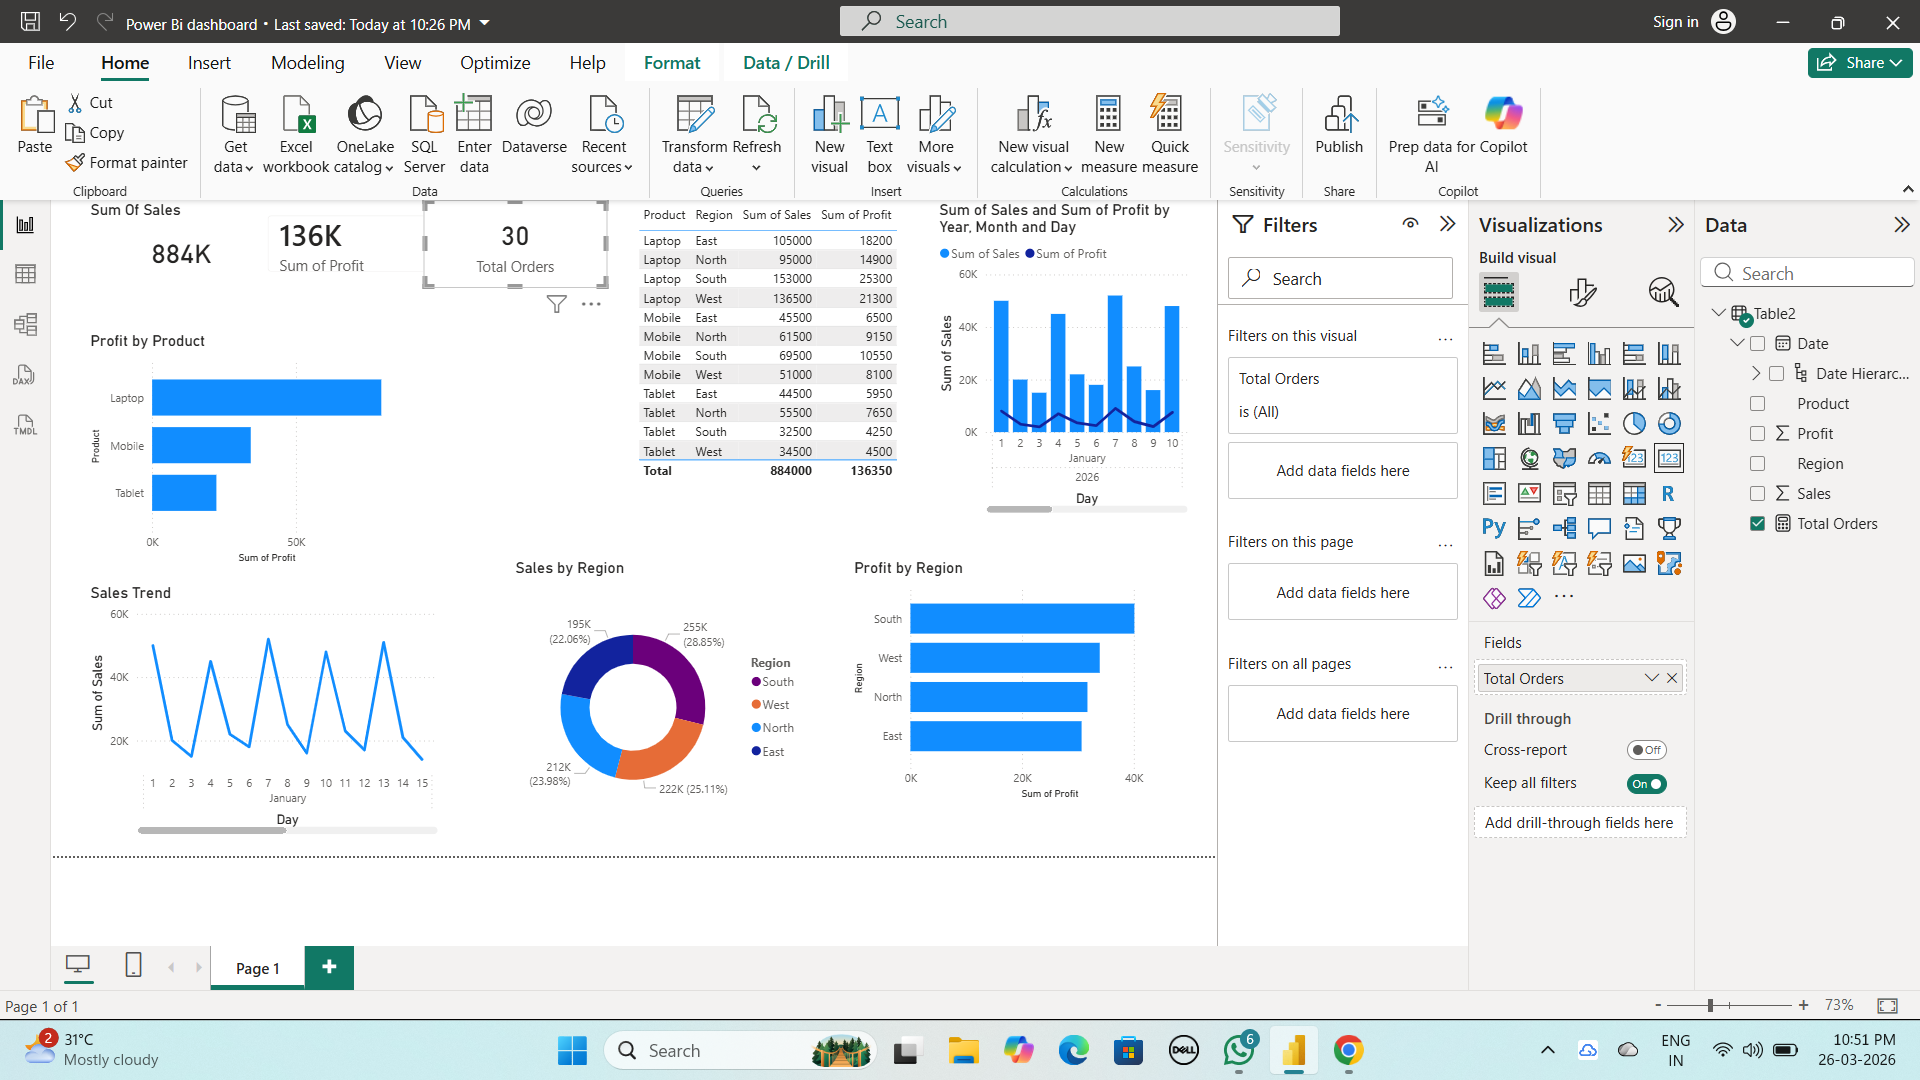

The dashboard page shown, as its layout file describes it:
{"tool":"powerbi","page":{"name":"Page 1","canvas":[1280,720],"ordinal":0},"visuals":[{"type":"card","title":"Sum Of Sales","fields":{"Values":["Sum(Table2.Sales)"]},"box":[11,0,209.9,96.1],"z":0},{"type":"lineChart","title":"Sales Trend","fields":{"Y":["Sum(Table2.Sales)"],"Category":["Table2.Date.Variation.Date Hierarchy.Month","Table2.Date.Variation.Date Hierarchy.Day"]},"box":[38.4,421.3,391.1,279.9],"z":1000},{"type":"barChart","title":"Profit by Product","fields":{"Y":["Sum(Table2.Profit)"],"Category":["Table2.Product"]},"box":[38.4,144.1,340.3,259.3],"z":2000},{"type":"donutChart","title":"Sales by Region","fields":{"Category":["Table2.Region"],"Y":["Sum(Table2.Sales)"]},"box":[505,393.8,332.1,307.4],"z":3000},{"type":"tableEx","fields":{"Values":["Table2.Product","Table2.Region","Sum(Table2.Sales)","Sum(Table2.Profit)"]},"box":[639.5,0,330.7,348.5],"z":4000},{"type":"cardVisual","title":"Sum Of Profits","fields":{"Data":["Sum(Table2.Profit)"]},"box":[220.9,0,208.6,96.1],"z":5000},{"type":"card","fields":{"Values":["Table2.total Orders"]},"box":[408.9,0,201.7,96.1],"z":6000},{"type":"lineClusteredColumnComboChart","fields":{"Y":["Sum(Table2.Sales)"],"Y2":["Sum(Table2.Profit)"],"Category":["Table2.Date.Variation.Date Hierarchy.Year","Table2.Date.Variation.Date Hierarchy.Month","Table2.Date.Variation.Date Hierarchy.Day"]},"box":[970.2,0,282.7,348.5],"z":7000},{"type":"barChart","title":"Profit by Region","fields":{"Y":["Sum(Table2.Profit)"],"Category":["Table2.Region"]},"box":[876.8,393.8,388.3,269],"z":7002}]}

Visuals, with their boxes on the page's 1280x720 design canvas (x1, y1, x2, y2). These are canvas units, not pixel positions in the 1920x1080 screenshot, which may show the page scaled, cropped or inside an application window:
"Sum Of Sales" card: (11, 0, 221, 96)
"Sales Trend" lineChart: (38, 421, 430, 701)
"Profit by Product" barChart: (38, 144, 379, 403)
"Sales by Region" donutChart: (505, 394, 837, 701)
tableEx - Table2.Product x Table2.Region: (640, 0, 970, 348)
"Sum Of Profits" cardVisual: (221, 0, 430, 96)
card - Table2.total Orders: (409, 0, 611, 96)
lineClusteredColumnComboChart - Sum(Table2.Sales) x Sum(Table2.Profit): (970, 0, 1253, 348)
"Profit by Region" barChart: (877, 394, 1265, 663)
